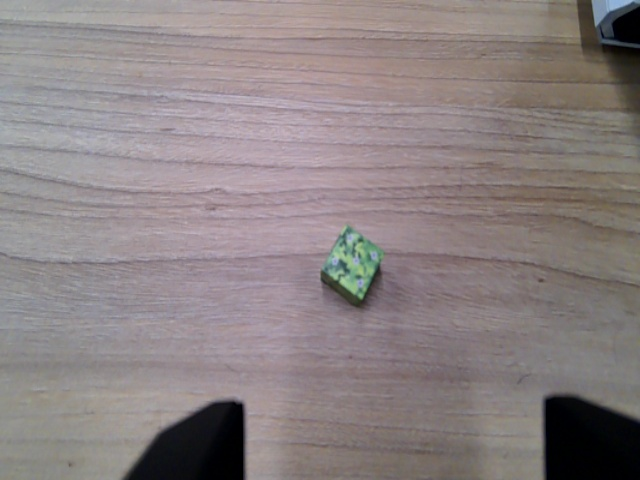grass: (318, 226, 386, 308)
